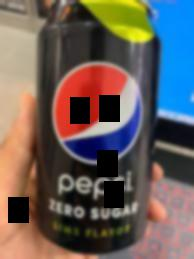pepsi_zero: (33, 0, 159, 256)
